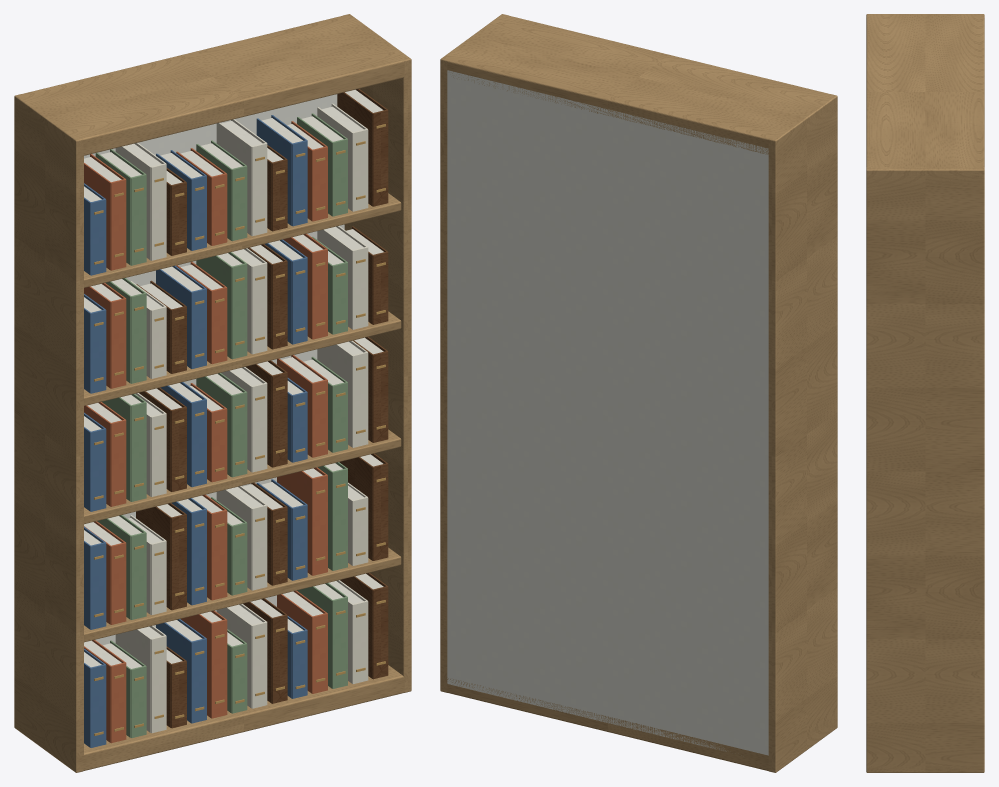
The model's file is filled-bookshelf.glb.
3 renders of one model, left to right at view 1: azimuth 30°, elevation 25°; view 2: azimuth 150°, elevation 25°; view 3: azimuth 270°, elevation 25°, orthographic. The views are drawn at different scales.
Visible parts, largest first — view 1: Cabinet side, Cabinet top bottom.001, Cabinet side.001, Cabinet top bottom, Cabinet back, Bookshelf horizontal shelf, Bookshelf horizontal shelf.001, Bookshelf horizontal shelf.003, Bookshelf horizontal shelf.002, Book spine.006, Book spine.029, Book spine.074 (+99 smaller); view 2: Cabinet back, Cabinet side, Cabinet top bottom.001, Cabinet side.001, Cabinet top bottom; view 3: Cabinet side.001, Cabinet top bottom.001, Cabinet top bottom.
Boxes of the visible parts, <box> form: Cabinet side: <box>14,94,83,772</box>; Cabinet top bottom.001: <box>14,14,410,156</box>; Cabinet side.001: <box>343,14,411,692</box>; Cabinet top bottom: <box>77,665,410,770</box>; Cabinet back: <box>84,94,344,645</box>; Bookshelf horizontal shelf: <box>84,547,401,642</box>; Bookshelf horizontal shelf.001: <box>84,429,401,524</box>; Bookshelf horizontal shelf.003: <box>84,193,401,287</box>; Bookshelf horizontal shelf.002: <box>84,311,401,405</box>; Book spine.006: <box>211,619,227,718</box>; Book spine.029: <box>372,463,388,560</box>; Book spine.074: <box>372,110,388,206</box>; Cabinet back: <box>447,70,768,755</box>; Cabinet side: <box>768,94,837,772</box>; Cabinet top bottom.001: <box>441,14,837,156</box>; Cabinet side.001: <box>440,14,508,692</box>; Cabinet top bottom: <box>441,676,837,770</box>; Cabinet side.001: <box>866,166,984,772</box>; Cabinet top bottom.001: <box>866,14,984,185</box>; Cabinet top bottom: <box>867,766,983,771</box>.
Bounding box in the file's own units: 1 × 1.8 × 0.32.
9 materials, 9 textured.
